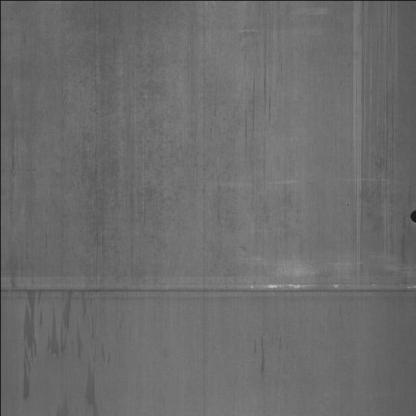punching_hole: (403, 200, 416, 239)
welding_line: (0, 277, 415, 308)
